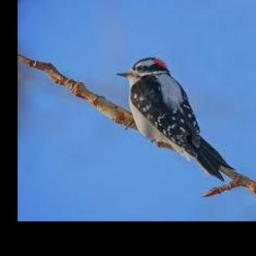Woodpecker: (116, 57, 234, 181)
